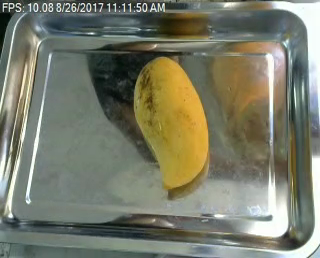Mango: (129, 50, 217, 193)
